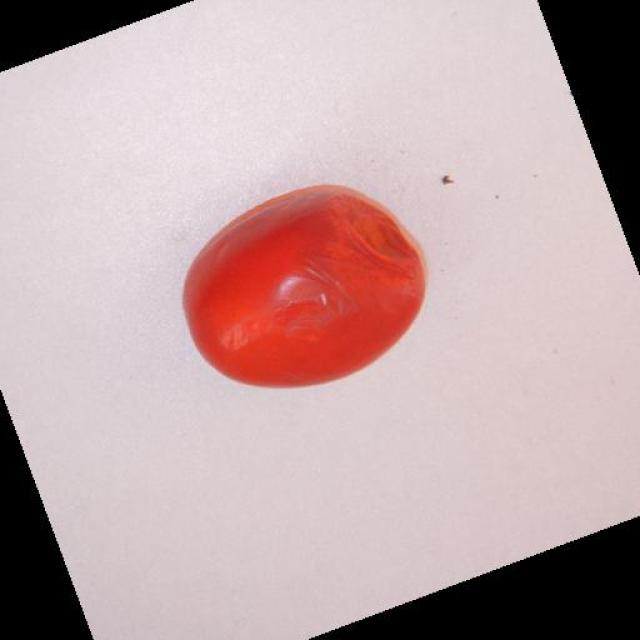Stale_tomato: (195, 167, 434, 382)
